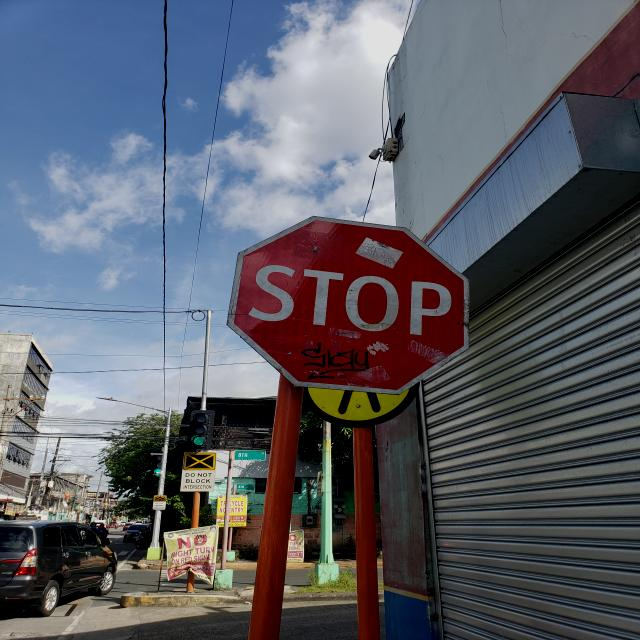stop-sign: (226, 214, 470, 396)
